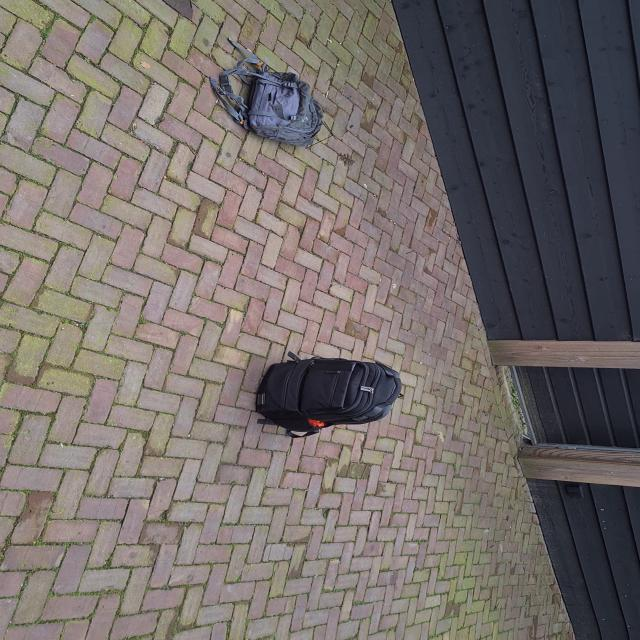backpack: (247, 353, 410, 434), (207, 62, 331, 148)
